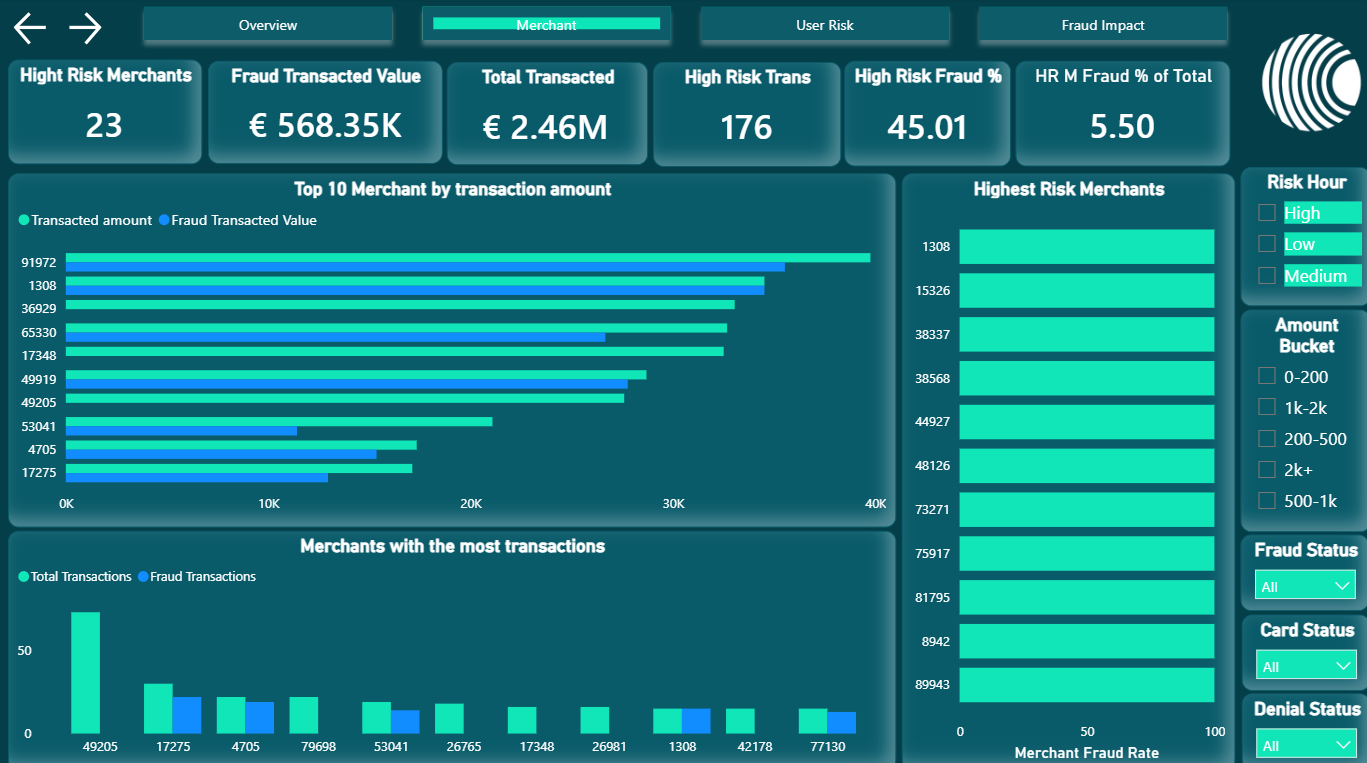

The page's visual inventory and layout, read from the dashboard file:
{"tool":"powerbi","page":{"name":"Merchant","canvas":[1280,720],"ordinal":1},"visuals":[{"type":"cardVisual","title":"Hight Risk Merchants","fields":{"Data":["_Measures.High Risk Merchants"]},"box":[9.7,58.4,180.9,97.4],"z":0},{"type":"clusteredBarChart","title":"Top 10 Merchant by transaction amount","fields":{"Category":["transactional-sample.merchant_id"],"Y":["Sum(transactional-sample.transaction_amount)","_Measures.Fraud Transacted Value"]},"box":[9.7,163.5,826,329.4],"z":1000},{"type":"clusteredColumnChart","title":"Merchants with the most transactions","fields":{"Category":["transactional-sample.merchant_id"],"Y":["_Measures.Total Transactions","_Measures.Fraud Transactions"]},"box":[9.7,496.6,826,222.9],"z":2000},{"type":"barChart","title":"Highest Risk Merchants","fields":{"Category":["transactional-sample.merchant_id"],"Y":["_Measures.Merchant Fraud Rate"]},"box":[840.6,163.5,310.1,555.9],"z":3000},{"type":"cardVisual","title":"High Risk Trans","fields":{"Data":["_Measures.High Risk Merchant Fraud Txns"]},"box":[608.8,60,175,97.5],"z":4000},{"type":"cardVisual","title":"High Risk Fraud %","fields":{"Data":["_Measures.High Risk Merchant Fraud %"]},"box":[787.5,58.8,155,98.8],"z":5000},{"type":"cardVisual","title":"HR M Fraud % of Total","fields":{"Data":["_Measures.High Risk Merchant Fraud % of Total"]},"box":[946,59.3,199.8,98.1],"z":6000},{"type":"image","box":[1167.5,0,108.8,156.2],"z":7000},{"type":"actionButton","box":[60,8.8,47.5,40],"z":8000},{"type":"actionButton","box":[10,8.8,50,40],"z":9000},{"type":"pageNavigator","box":[127.2,0,1028.3,49.7],"z":10000},{"type":"cardVisual","title":"Fraud Transacted Value","fields":{"Data":["_Measures.Fraud Transacted Value"]},"box":[194.8,59.8,218.5,96],"z":11000},{"type":"cardVisual","title":"Total Transacted ","fields":{"Data":["Sum(transactional-sample.transaction_amount)"]},"box":[417.5,60,187.5,96.2],"z":12000},{"type":"slicer","title":"Risk Hour","fields":{"Values":["transactional-sample.Risk_hour"]},"box":[1155.5,158.7,122.3,129.6],"z":13000},{"type":"slicer","title":"Amount Bucket","fields":{"Values":["transactional-sample.amount_bucket"]},"box":[1155.5,290.5,122.3,207.1],"z":14000},{"type":"slicer","title":"Fraud Status","fields":{"Values":["transactional-sample.Fraud Status"]},"box":[1155.5,500,121.1,71.5],"z":15000},{"type":"slicer","title":"Card Status","fields":{"Values":["transactional-sample.Card Shared Status"]},"box":[1156.7,573.9,121.1,71.5],"z":16000},{"type":"slicer","title":"Denial Status","fields":{"Values":["transactional-sample.Denial Status"]},"box":[1156.7,648,121.1,71.5],"z":17000}]}

Visuals, with their boxes in screenshot pixels (x1, y1, x2, y2), scaled from the page's 1280x720 canvas onto the 1367x763 screenshot:
"Hight Risk Merchants" cardVisual: 10/62/204/165
"Top 10 Merchant by transaction amount" clusteredBarChart: 10/173/893/522
"Merchants with the most transactions" clusteredColumnChart: 10/526/893/762
"Highest Risk Merchants" barChart: 898/173/1229/762
"High Risk Trans" cardVisual: 650/64/837/167
"High Risk Fraud %" cardVisual: 841/62/1007/167
"HR M Fraud % of Total" cardVisual: 1010/63/1224/167
image: 1247/0/1363/166
actionButton: 64/9/115/52
actionButton: 11/9/64/52
pageNavigator: 136/0/1234/53
"Fraud Transacted Value" cardVisual: 208/63/441/165
"Total Transacted " cardVisual: 446/64/646/166
"Risk Hour" slicer: 1234/168/1365/306
"Amount Bucket" slicer: 1234/308/1365/527
"Fraud Status" slicer: 1234/530/1363/606
"Card Status" slicer: 1235/608/1365/684
"Denial Status" slicer: 1235/687/1365/762
